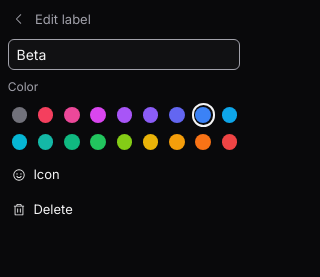
LabelMenu › test duplicate label name warns that the name is taken
Earlier steps of the test are not shown.
Later steps or results of the test are not shown.
Replace the text in the field named "Label name" with "alpha". click: {"x": 124, "y": 54}
box: [8, 39, 240, 70]
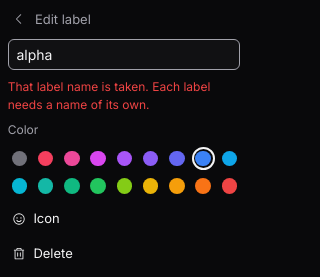
Expected: the text "That label name is taken. Each label needs a name of its own." is shown, [8, 78, 240, 114]
